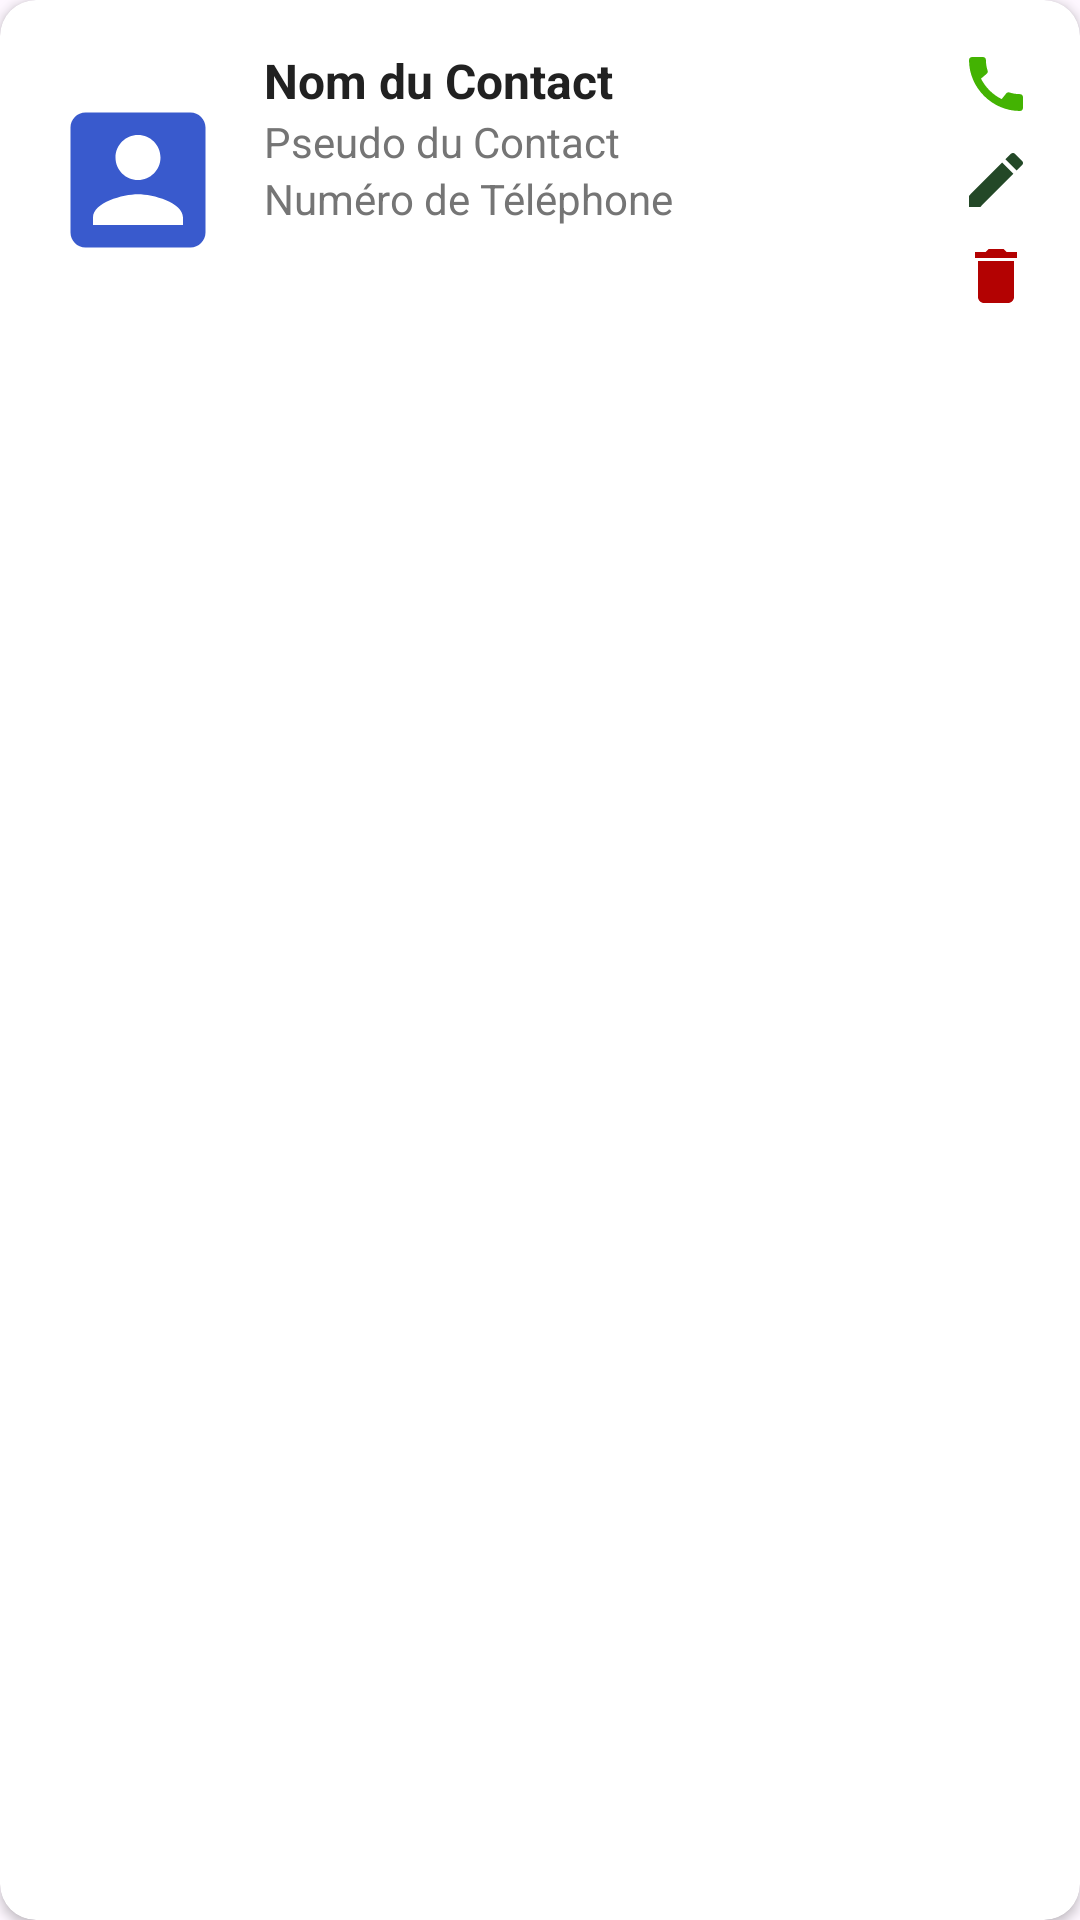

Where to tap for icons on this 1080x1920 app screen, as [x,y]:
account box: [138,180]
Appeler: [996,84]
Modifier: [996,180]
Supprimer: [996,276]
